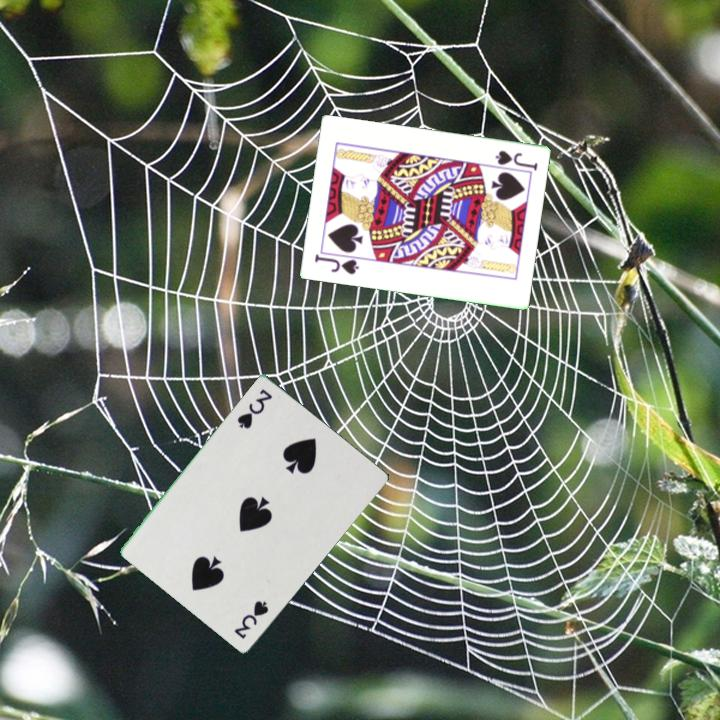3s: (234, 385, 275, 431), (231, 597, 272, 642)
Js: (311, 251, 362, 278), (492, 147, 540, 174)
